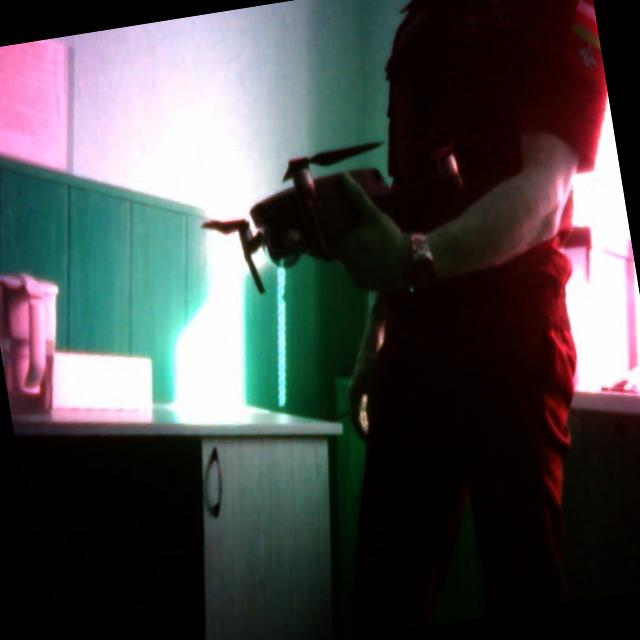drone: (193, 118, 512, 300)
